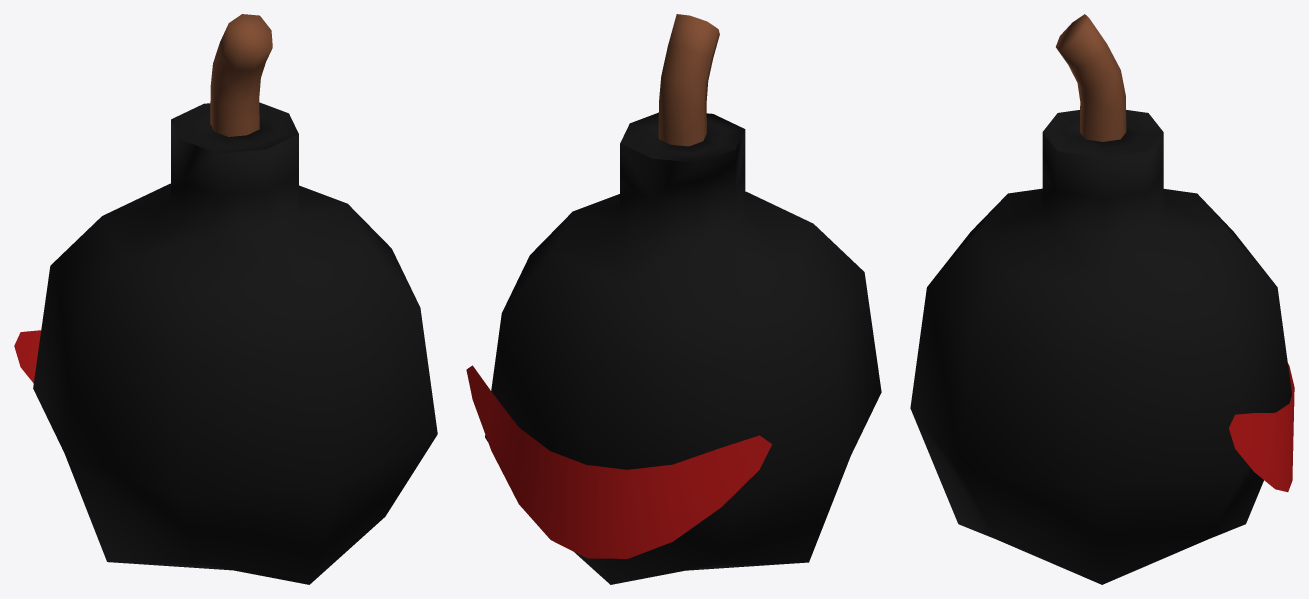
The model's file is enemigo.dae.
3 views of the same model, side by side, from view 1: azimuth 30°, elevation 25°; view 2: azimuth 150°, elevation 25°; view 3: azimuth 270°, elevation 25° (orthographic). The views are drawn at different scales.
Parts seen in each view (by area): view 1: Cube; view 2: Cube; view 3: Cube.
Boxes of the visible parts, <box> form: Cube: <box>14,14,437,584</box>; Cube: <box>466,14,881,584</box>; Cube: <box>910,14,1294,584</box>.
Size of the model in its own units: 2 by 2 by 3.14.
